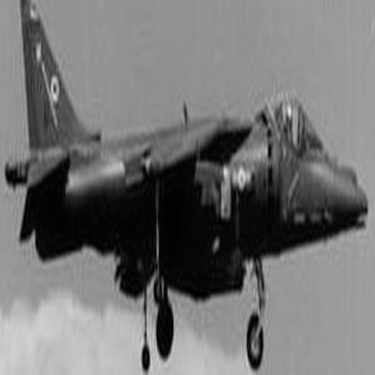airplane: (13, 9, 354, 360)
